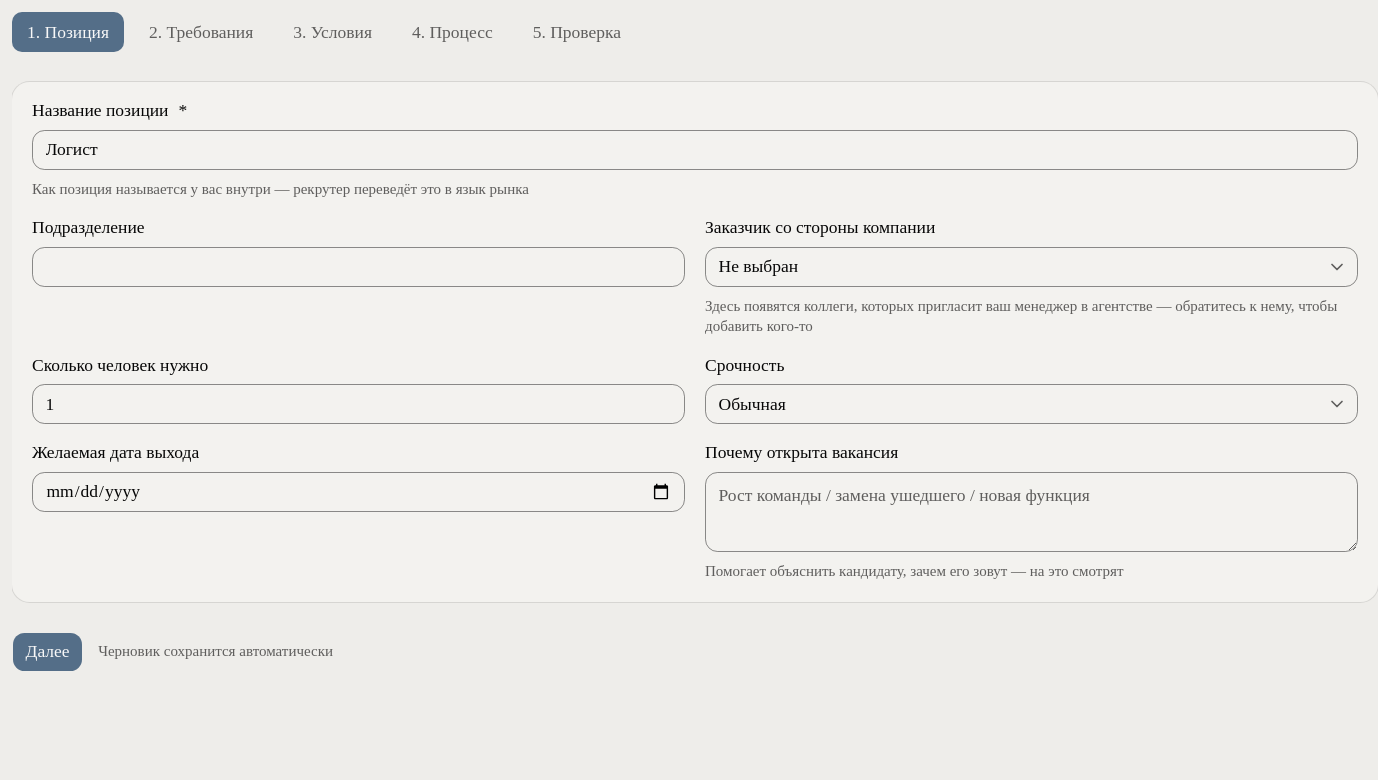
it: число человек › явно неверное число подписано у поля сразу
This screenshot has width=1378, height=780.
Replace the text in the number field labelled "Сколько человек нужно" with "501" at (358, 404), box [32,384,685,424]
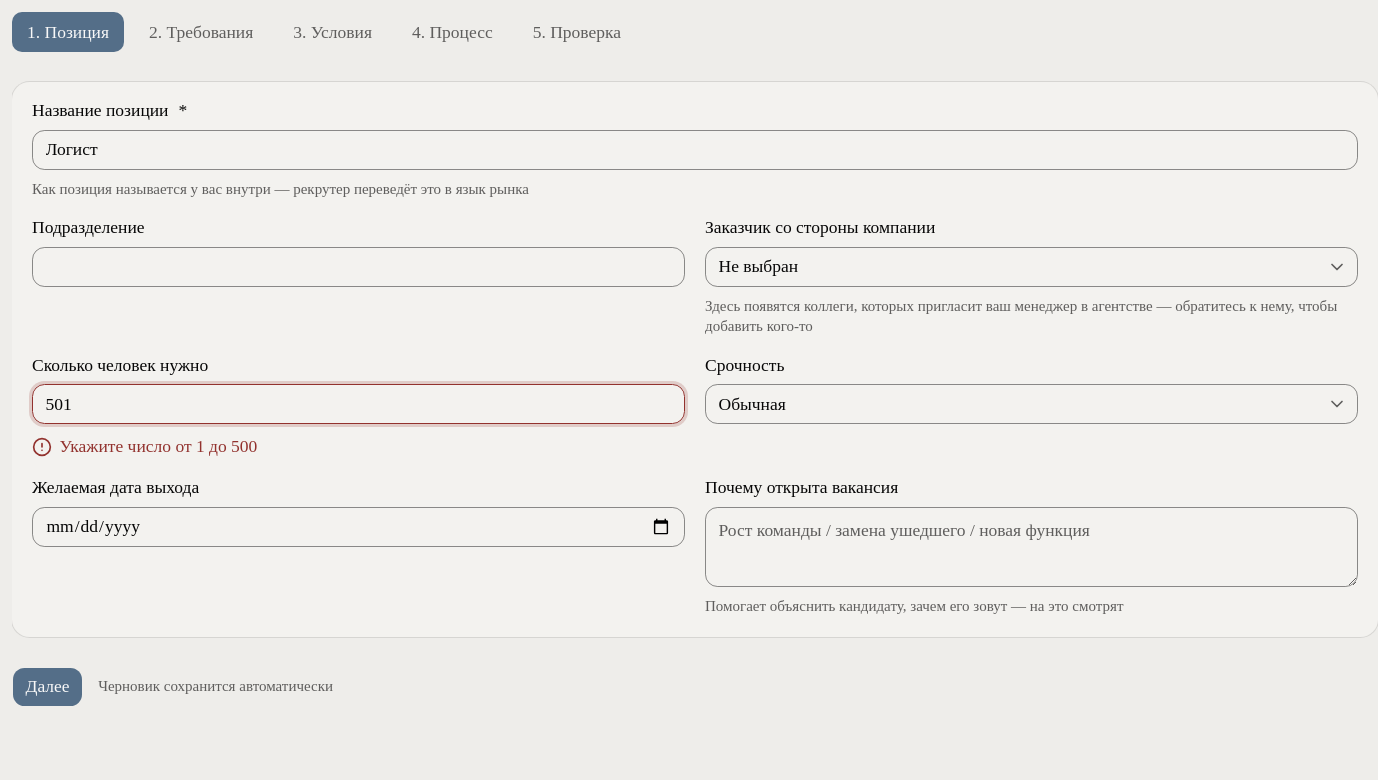
Expected: the text "Укажите число от 1 до 500" is shown, [60,434,257,460]
